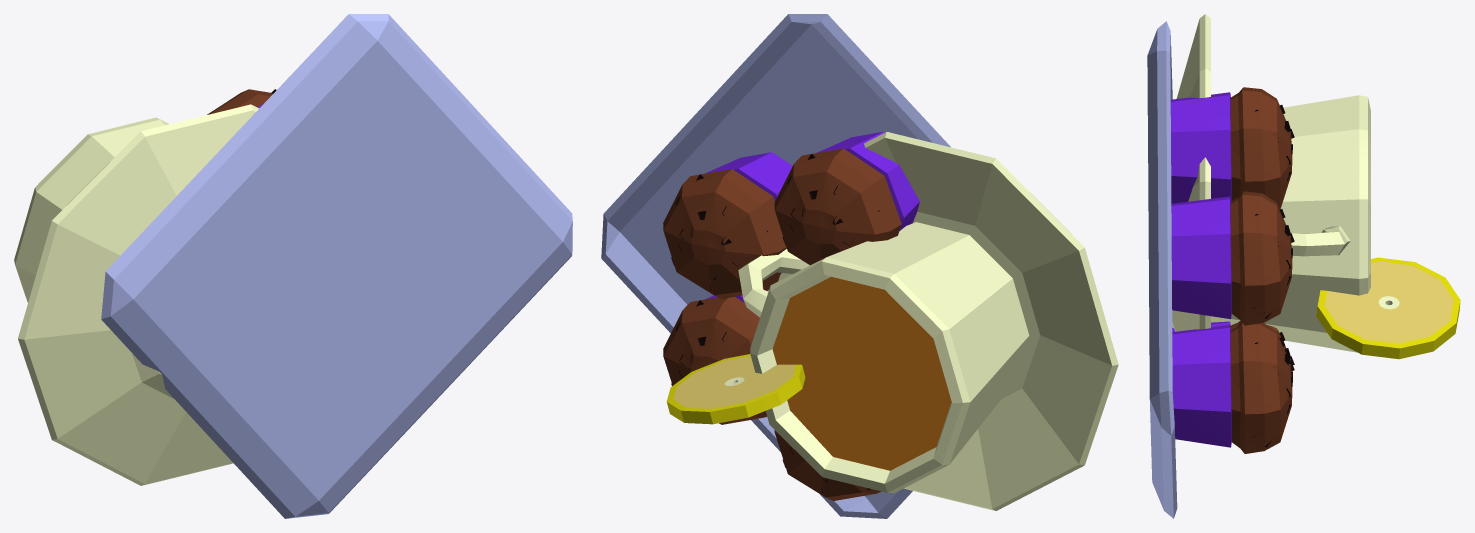
The model's file is food-pack-0fc54b.glb.
The picture shows the model from 3 angles, left to right: view 1: azimuth 30°, elevation 25°; view 2: azimuth 150°, elevation 25°; view 3: azimuth 270°, elevation 25°; orthographic projection. The views are drawn at different scales.
Parts seen in each view (by area): view 1: PropMesh; view 2: PropMesh; view 3: PropMesh.
Part boxes in pixels (x1=…): PropMesh: x1=14, y1=14, x2=572, y2=518; PropMesh: x1=601, y1=14, x2=1118, y2=518; PropMesh: x1=1147, y1=14, x2=1460, y2=518.
Size of the model in its own units: 2.48 by 2.2 by 1.23.
